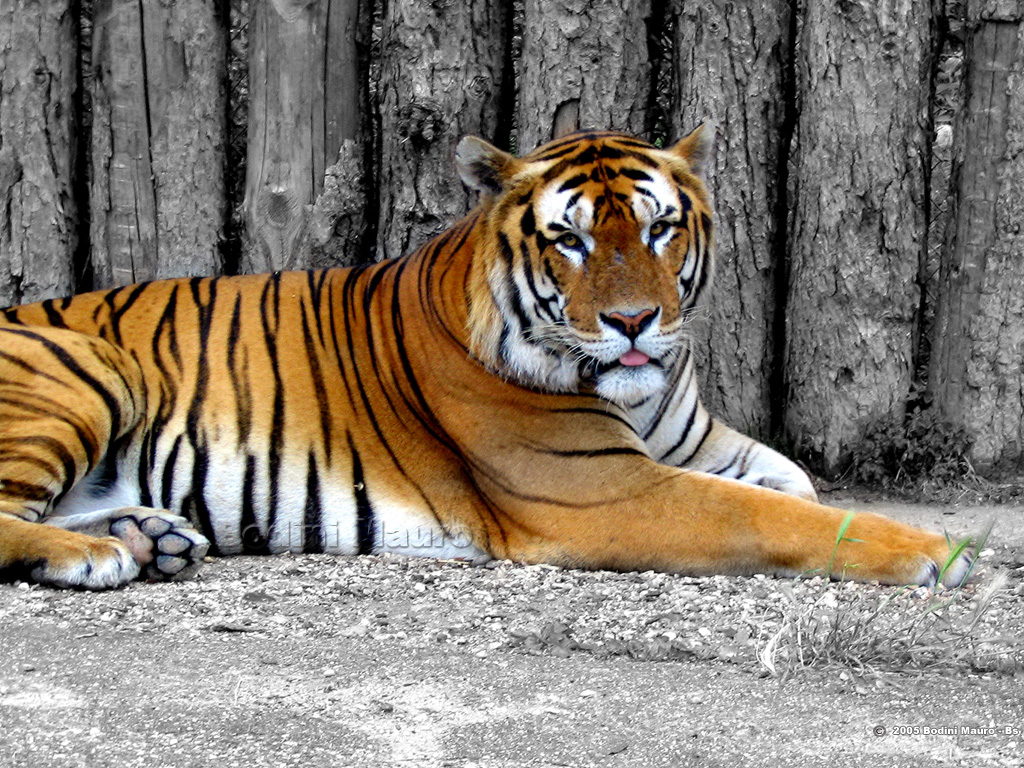Tigre: (24, 144, 989, 638)
